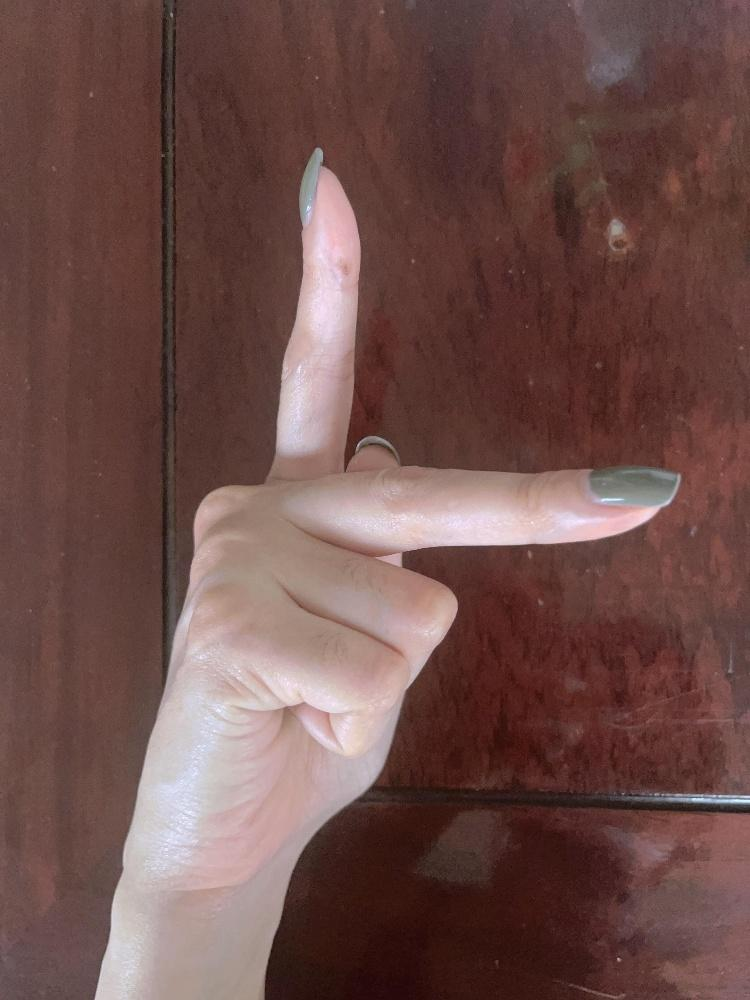k: (128, 143, 687, 891)
